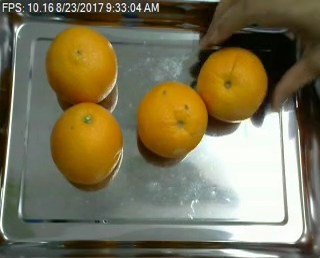Orange: (50, 101, 124, 186), (46, 25, 117, 105), (196, 47, 270, 121), (137, 79, 207, 156)
